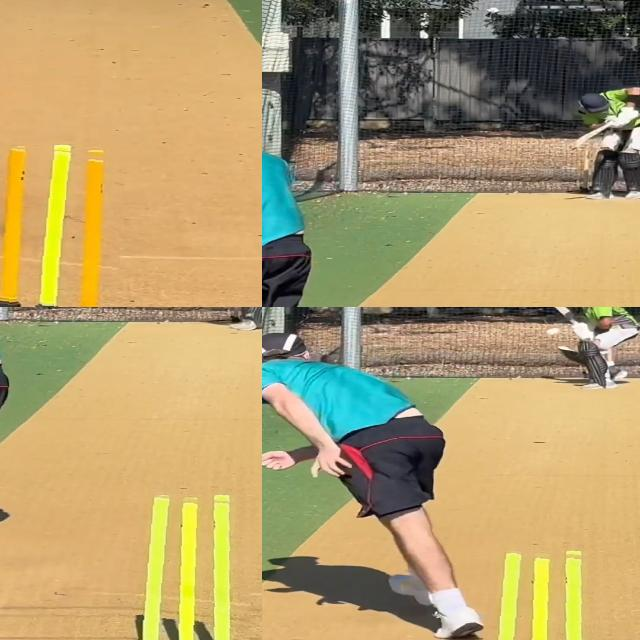Cricket ball: (545, 328, 561, 337)
Stumps: (0, 143, 125, 307), (132, 492, 255, 640), (489, 547, 601, 640)
